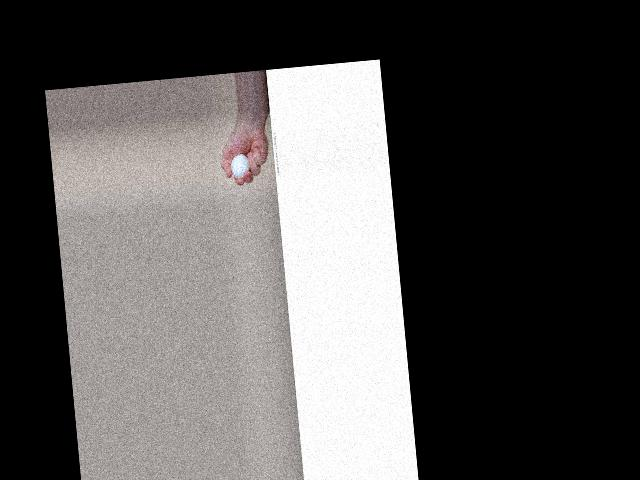egg: (230, 152, 250, 178)
